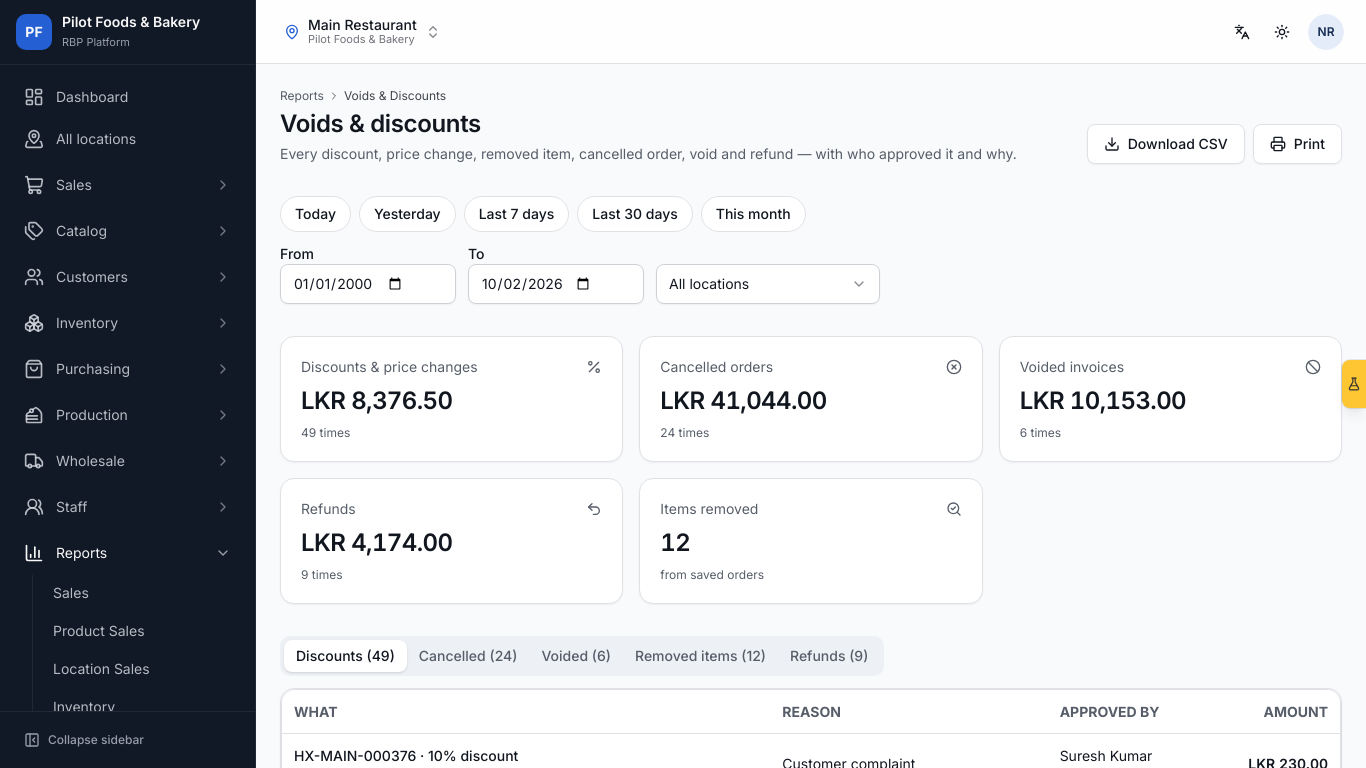
REP-005 voids & discounts › lists voided invoices with the approver and reason
The image size is (1366, 768).
Click the tab "Voided (6)".
click(576, 656)  # box [529,640,623,672]
(page scrolled)
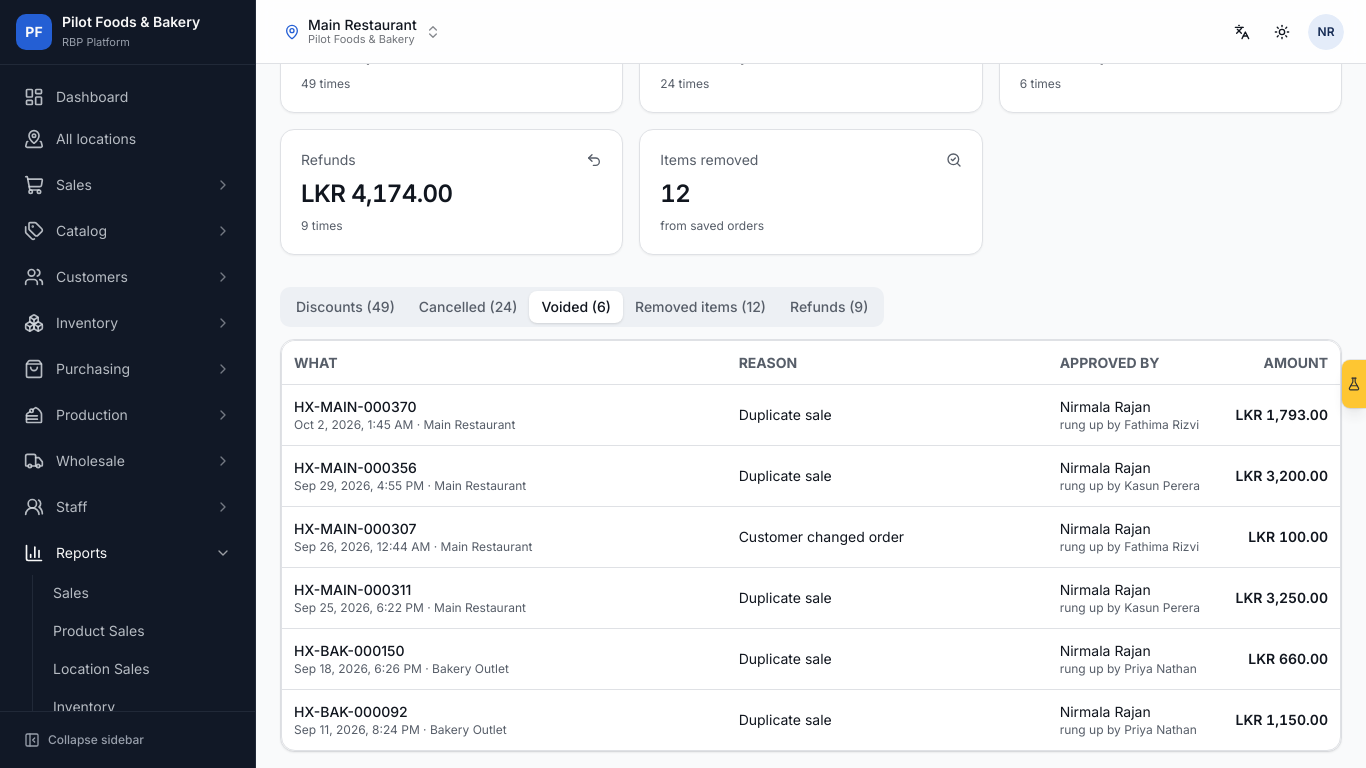
expect the text "Nirmala Rajan" in the row of "HX-MAIN-000370" is shown: met, box [1060,398,1151,415]
